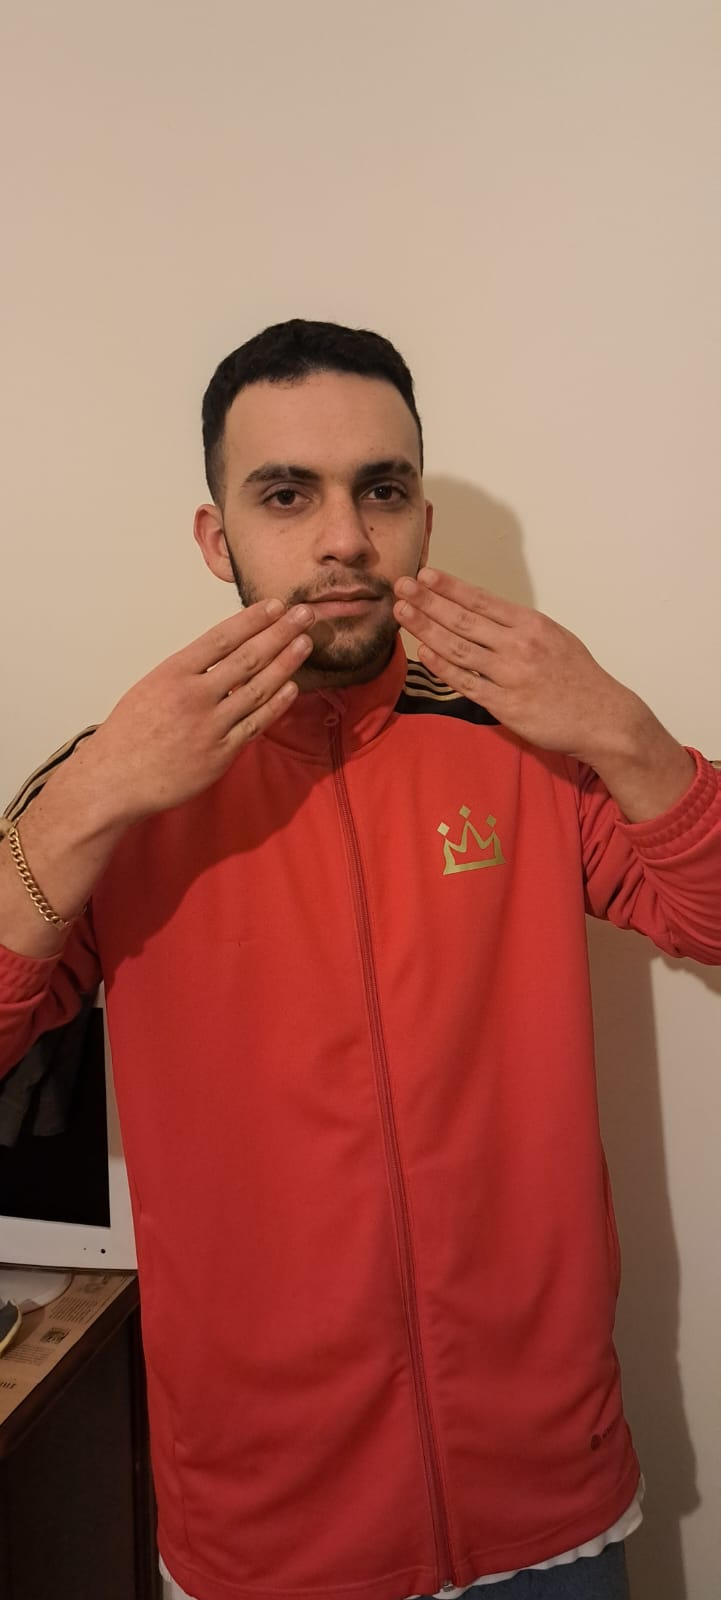grazie: (103, 561, 607, 806)
